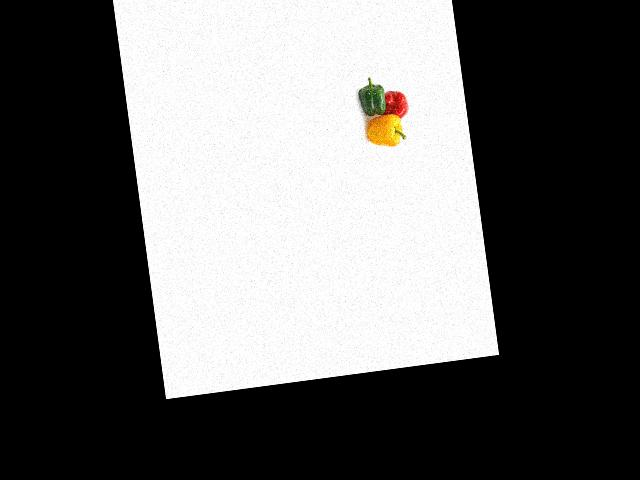bell_pepper: (356, 78, 391, 124)
